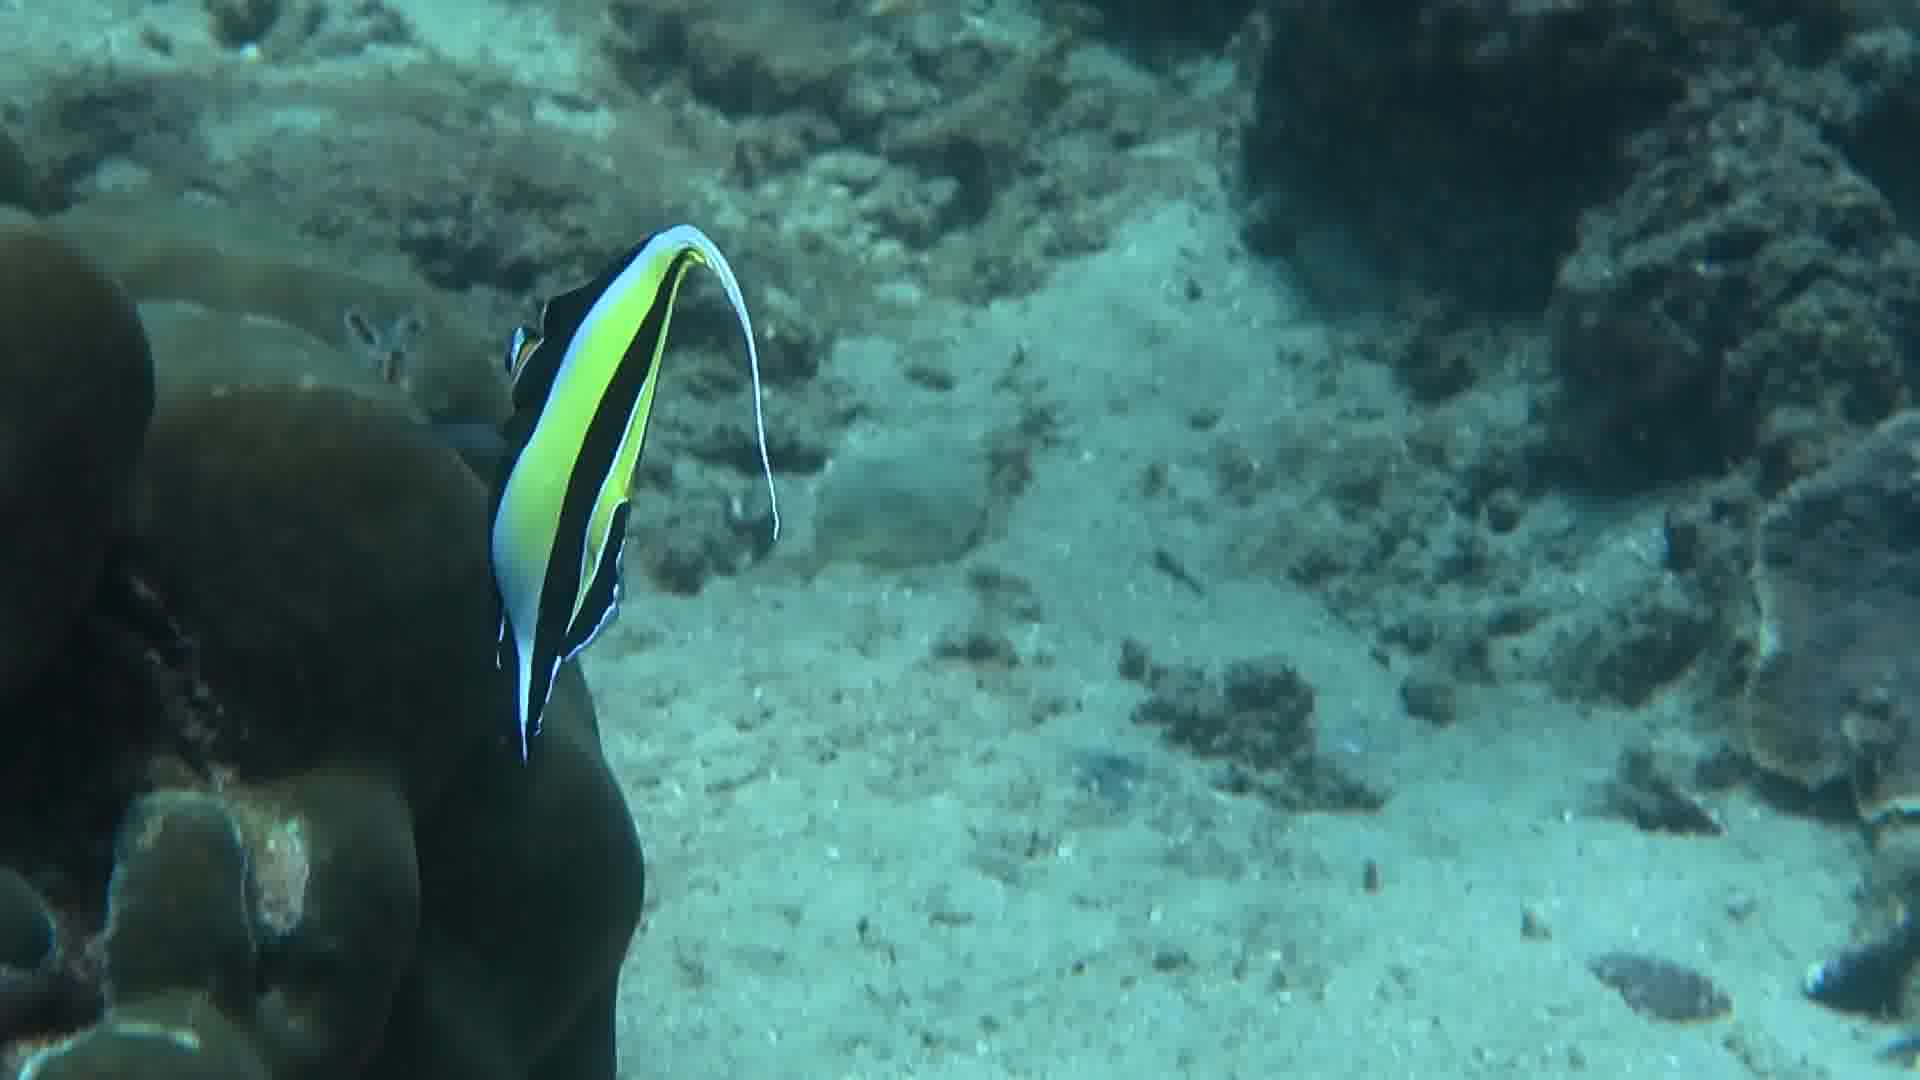Zanclus cornutus: (479, 202, 679, 742)
